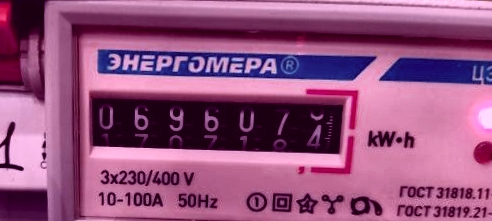0: (94, 100, 116, 131), (236, 104, 256, 134)
4: (303, 121, 323, 151)
6: (200, 103, 221, 135), (130, 102, 150, 131)
7: (271, 104, 290, 136)
9: (165, 103, 186, 132)
screen: (75, 74, 361, 175)
